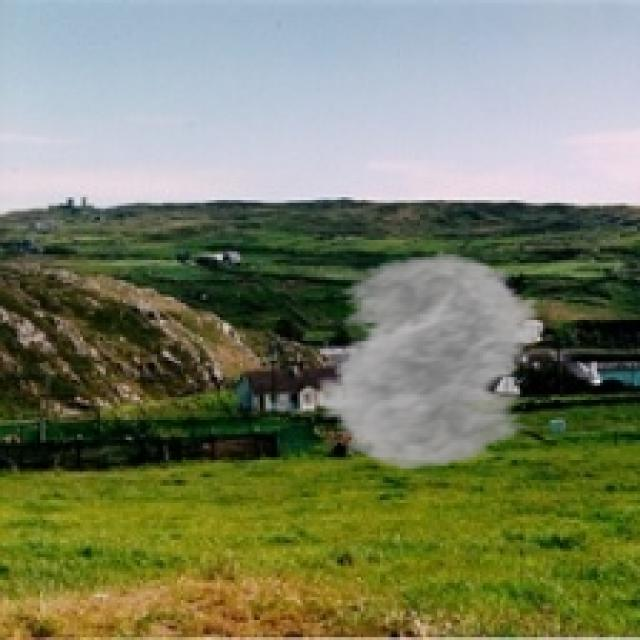Smoke: (294, 252, 572, 472)
